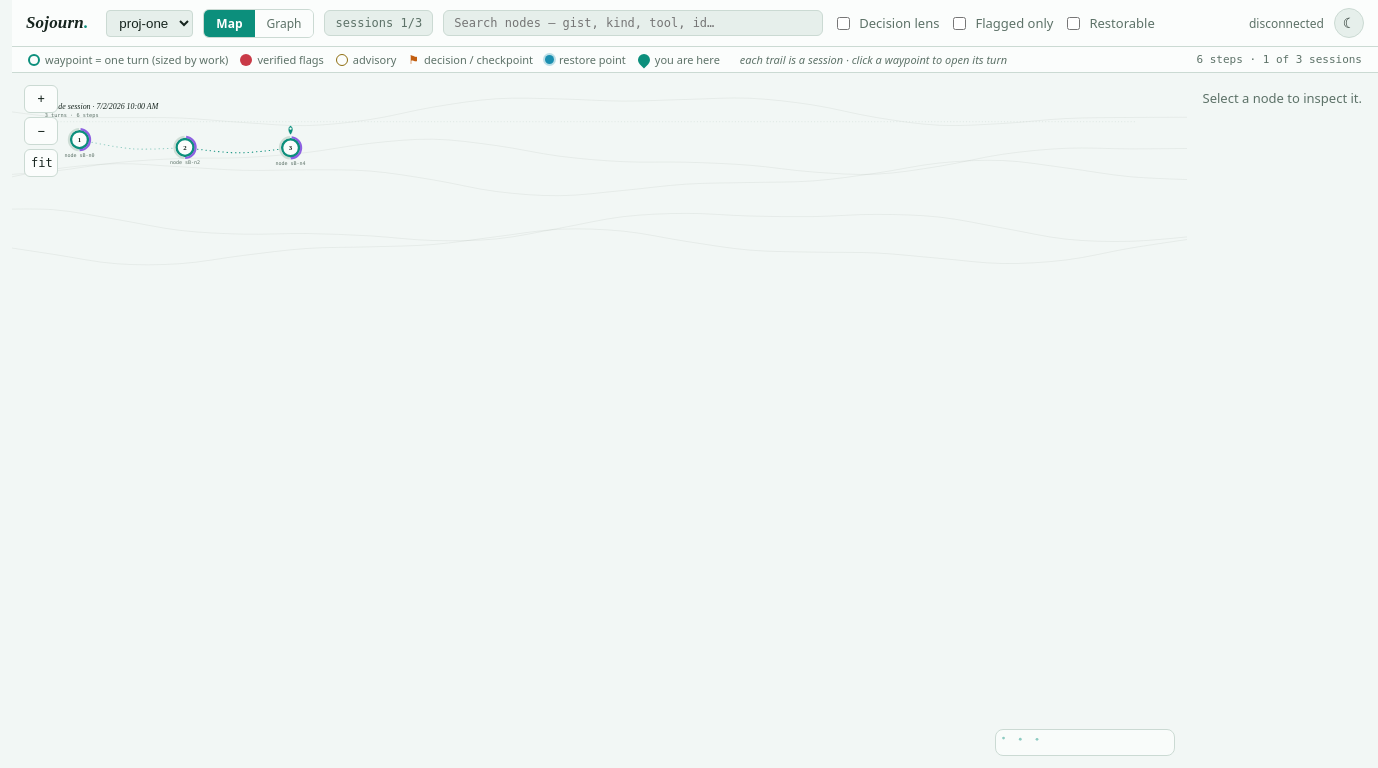
Test: App / session filter — defaults › lists sessions newest-first with start time, turn count, and cli
The image size is (1378, 768).
Check: the element with test id "legend" is shown, box [12,47,1377,73]
Click the button with test id "session-filter-button". click: {"x": 379, "y": 23}
box: [324,10,433,36]
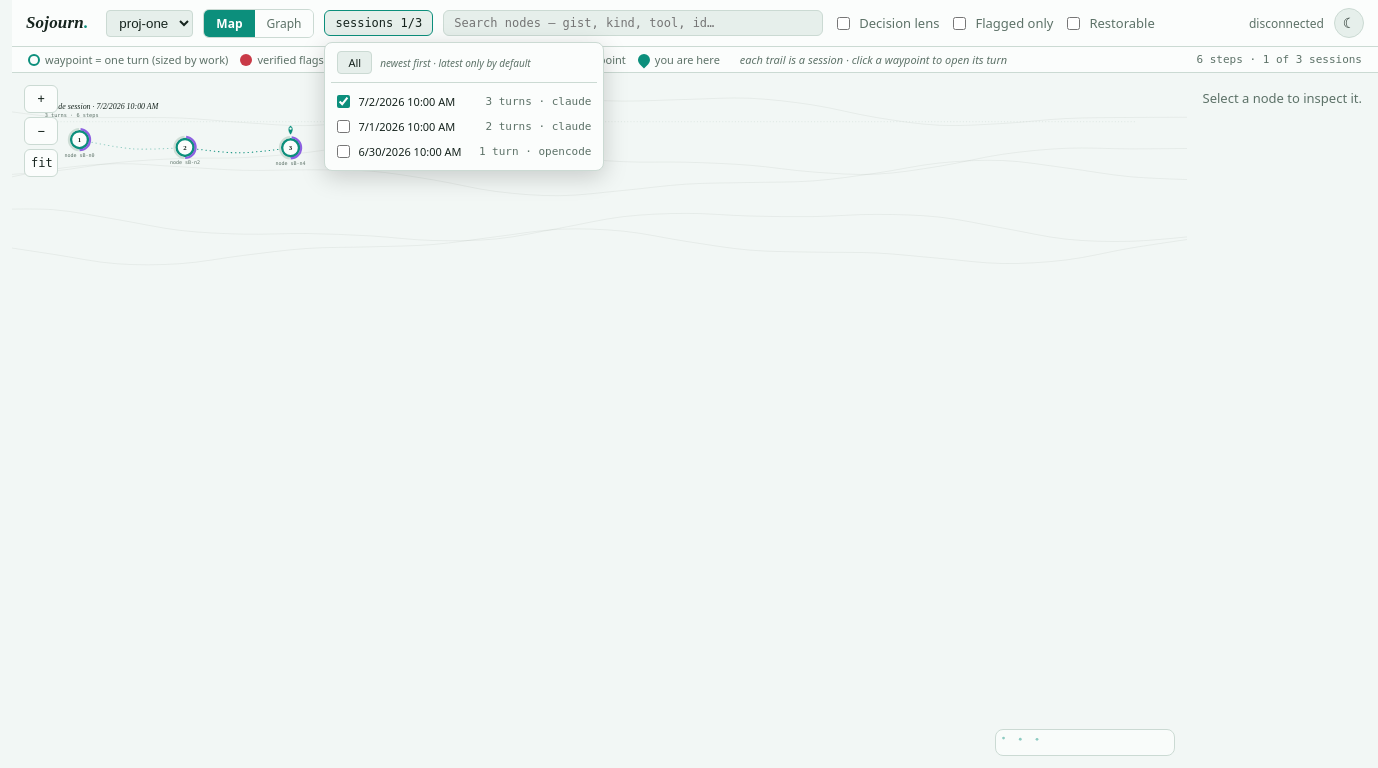
Check: the label with test id "session-filter-row" shows "3 turns", box [332,89,598,114]
Check: the label with test id "session-filter-row" shows "claude", box [552,95,592,108]
Check: the label with test id "session-filter-row" shows "2 turns", box [332,114,598,139]
